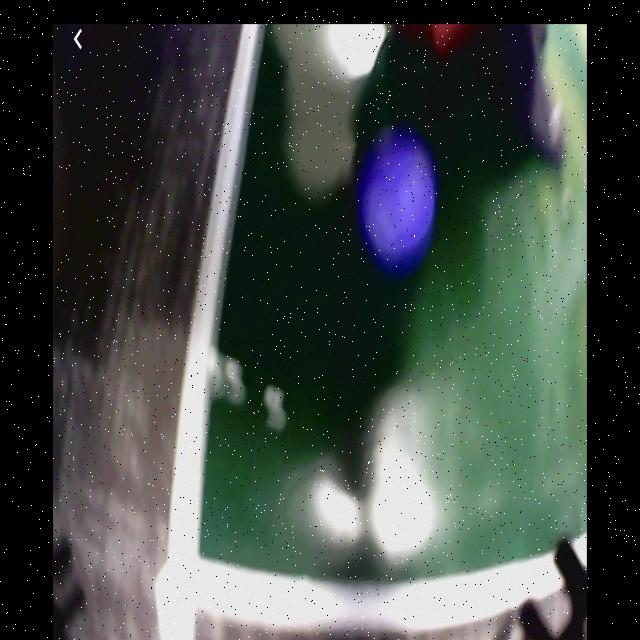ball: (360, 122, 443, 280)
